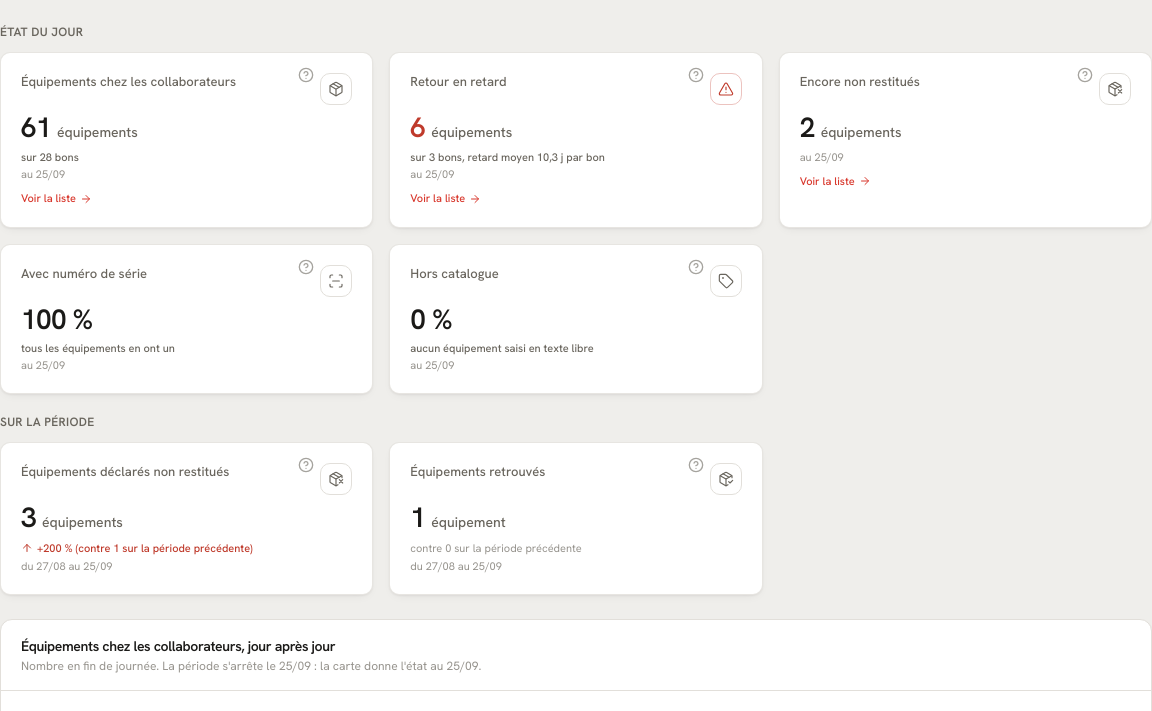
ParcTab › rien à lister (100 % avec numéro, 0 % hors catalogue) : pas de lien, le « ? » dit pourquoi
expect the element named "Avec numéro de série : 100" is shown: met, box [1,245,372,393]
Click the button named "Définition : Avec numéro de série": [306, 267] box [284,245,328,289]
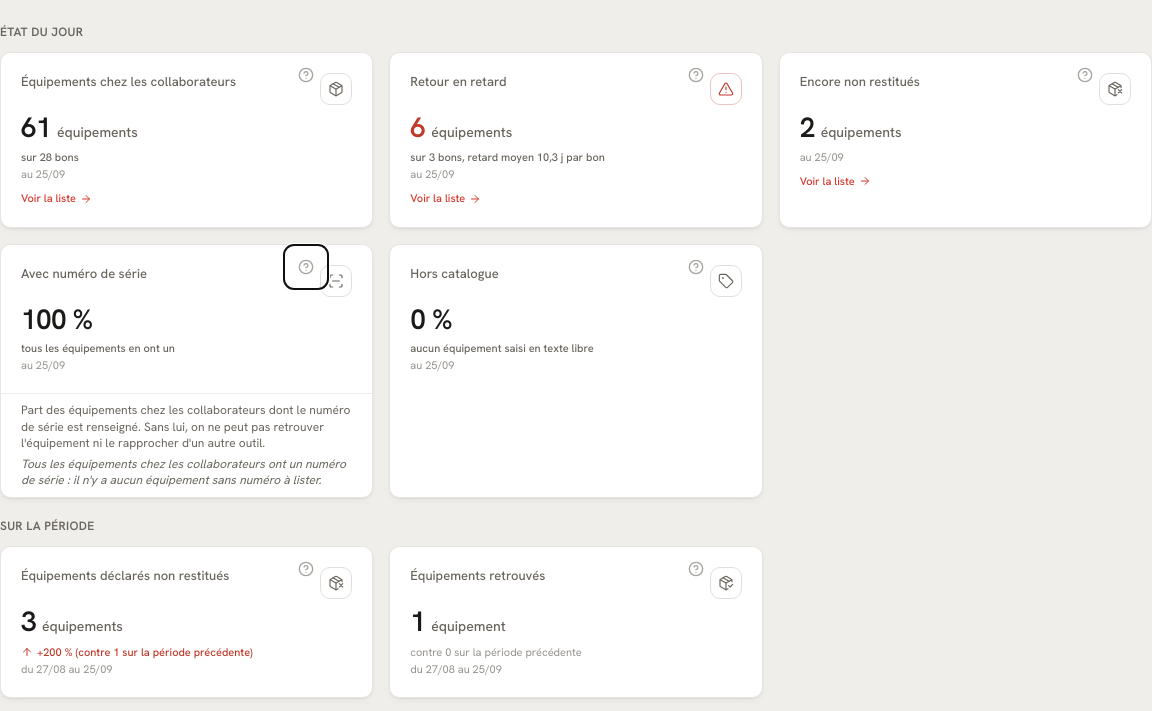
Click the button named "Définition : Hors catalogue": [696, 267] box [674,245,718,289]
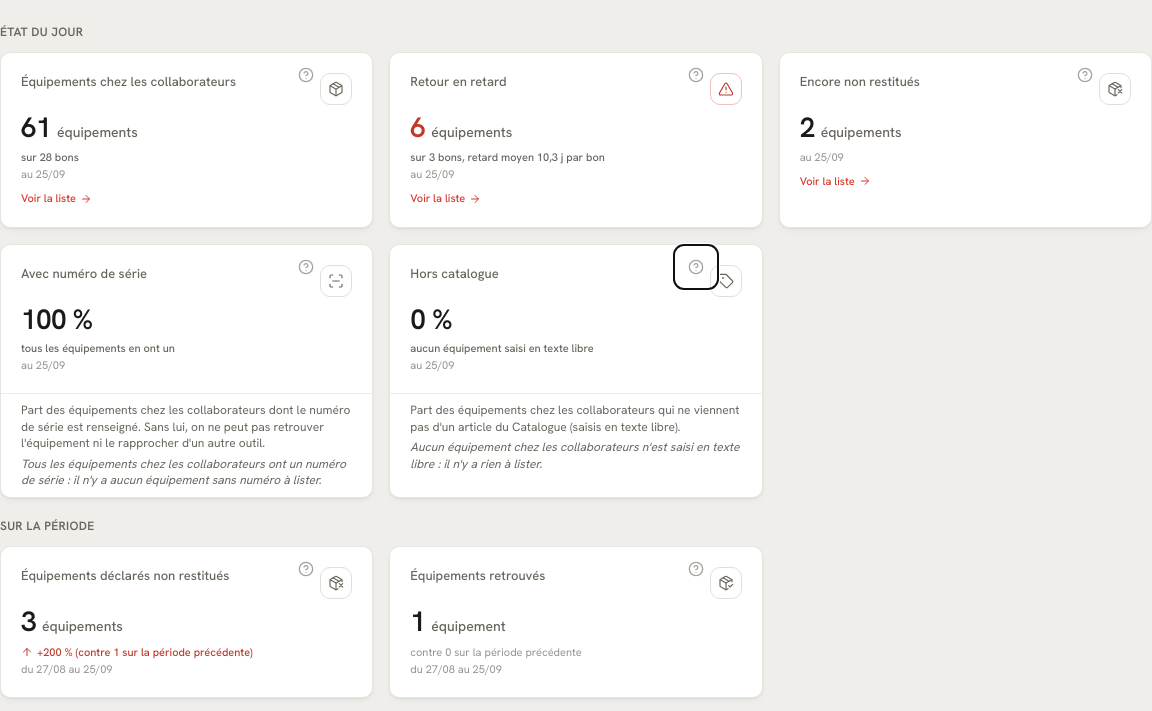
expect the text "aucun équipement sans numéro à lister" is shown: met, box [21,456,346,488]
expect the text "n'est saisi en texte libre : il n'y a rien à lister" is shown: met, box [410,439,739,472]
